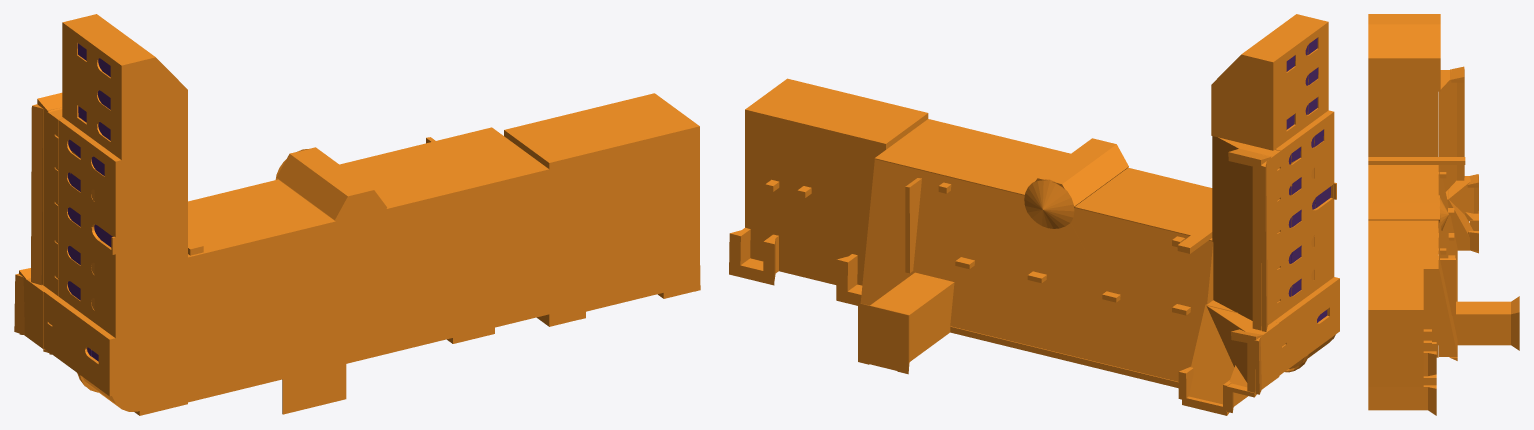
Rendered from Ratusz.fbx.
3 renders of one model, left to right at view 1: azimuth 30°, elevation 25°; view 2: azimuth 150°, elevation 25°; view 3: azimuth 270°, elevation 25°, orthographic. The views are drawn at different scales.
Parts seen in each view (by area): view 1: Ratusz_obj_0; view 2: Ratusz_obj_0; view 3: Ratusz_obj_0.
Boxes of the visible parts, <box> form: Ratusz_obj_0: <box>14,14,700,415</box>; Ratusz_obj_0: <box>729,14,1339,415</box>; Ratusz_obj_0: <box>1368,14,1519,415</box>.
Bounding box in the file's own units: 44.85 × 27.66 × 15.94.
Materials: 1 (1 with a texture image).
